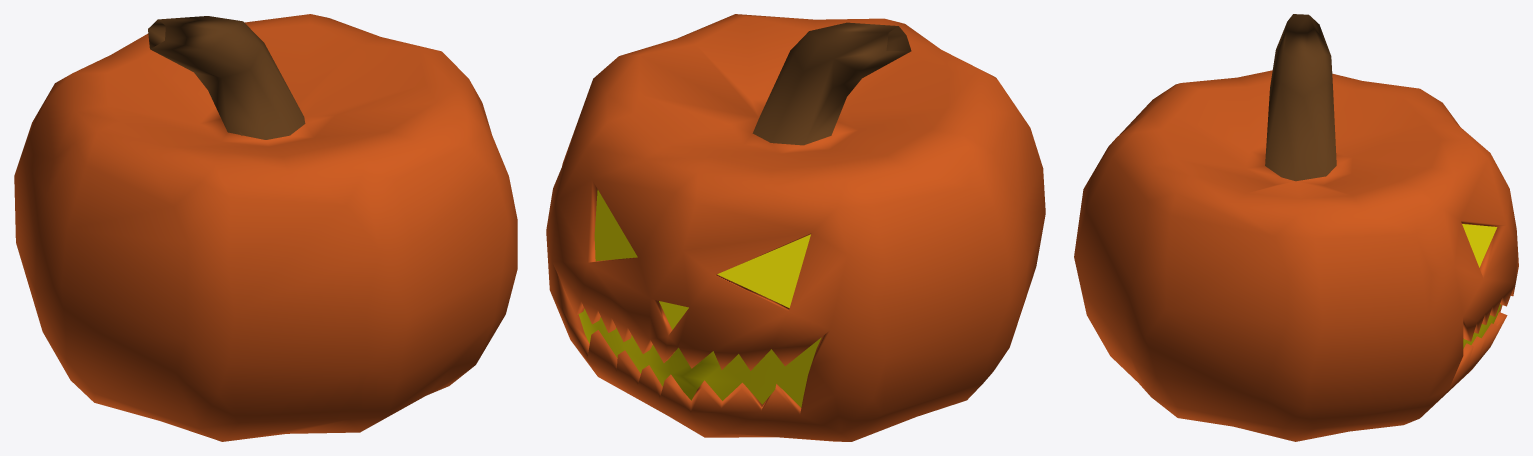
File: WorldItem_JackoLantern.fbx
The picture shows the model from 3 angles, left to right: view 1: azimuth 30°, elevation 25°; view 2: azimuth 150°, elevation 25°; view 3: azimuth 270°, elevation 25°; orthographic projection. The views are drawn at different scales.
Visible parts, largest first — view 1: Jack-o-Lantern; view 2: Jack-o-Lantern; view 3: Jack-o-Lantern.
Part boxes in pixels (x1,y1,x2,y2): Jack-o-Lantern: (14,14,517,441); Jack-o-Lantern: (546,14,1045,441); Jack-o-Lantern: (1074,14,1518,441).
Size of the model in its own units: 0.3194 by 0.2638 by 0.32.
